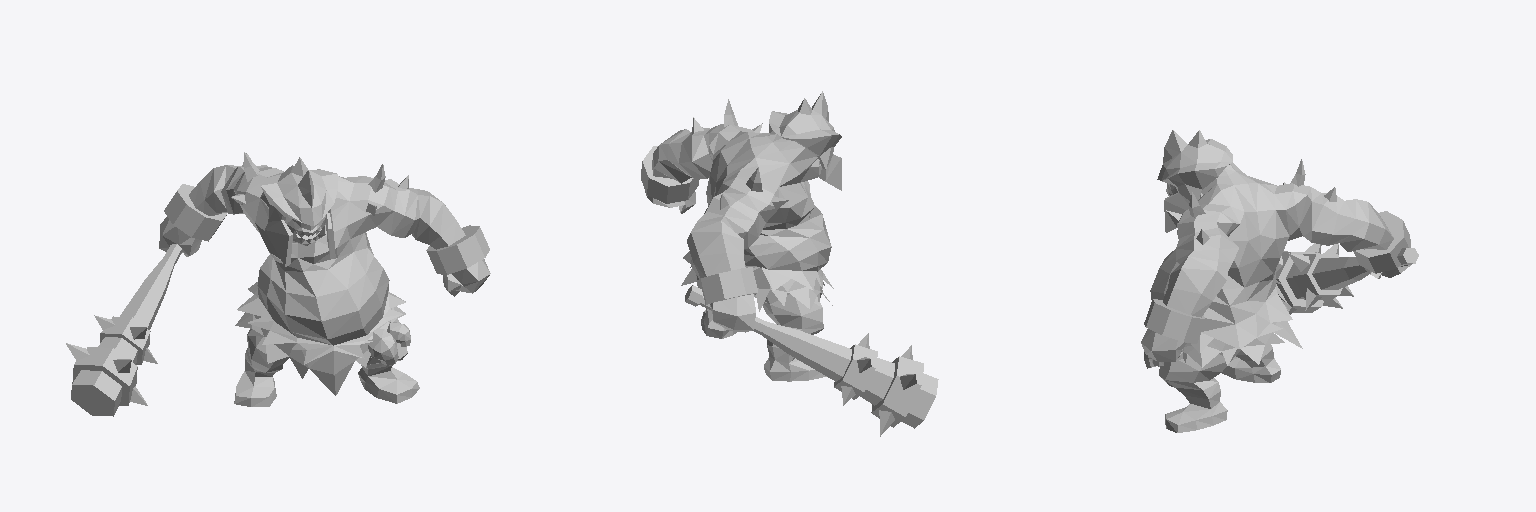
File: Attack01 (1).obj
The picture shows the model from 3 angles: view 1: azimuth 30°, elevation 25°; view 2: azimuth 150°, elevation 25°; view 3: azimuth 270°, elevation 25°; orthographic projection.
Parts seen in each view (by area): view 1: Cyclops03, Cyclops01_W; view 2: Cyclops03, Cyclops01_W; view 3: Cyclops03, Cyclops01_W.
Boxes of the visible parts, box(x1,y1,x2,y2) form: Cyclops03: box(159, 152, 490, 406); Cyclops01_W: box(66, 244, 181, 416); Cyclops03: box(641, 91, 841, 381); Cyclops01_W: box(685, 285, 938, 436); Cyclops03: box(1141, 130, 1410, 432); Cyclops01_W: box(1276, 243, 1418, 314).
Size of the model in its own units: 364 by 253 by 249.